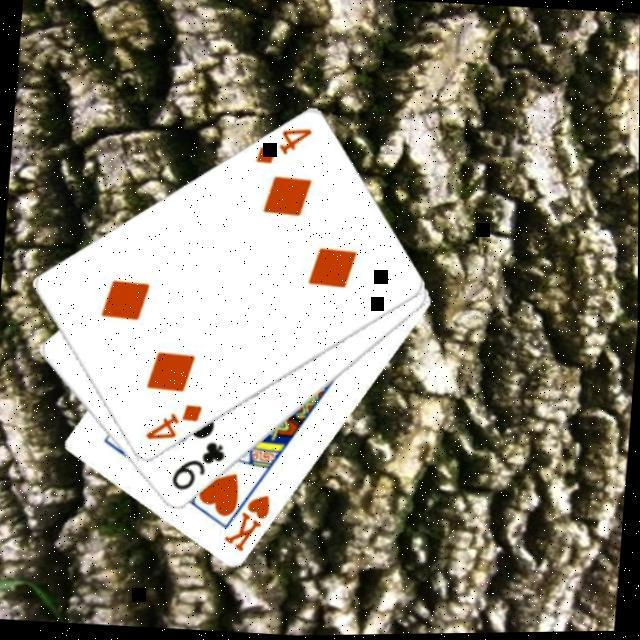4D: (139, 396, 204, 445), (248, 120, 313, 169)
9C: (166, 434, 228, 495)
KH: (219, 486, 273, 556)
